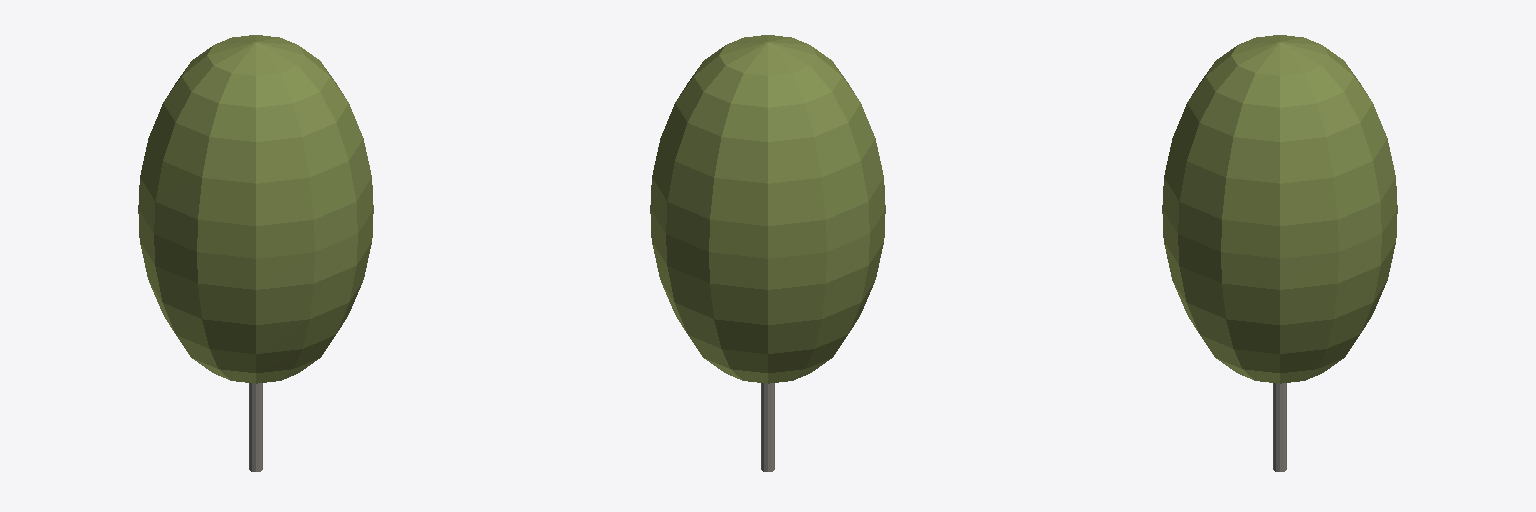
The model's file is Paper_Birch_Analytical_0.obj.
The picture shows the model from 3 angles: view 1: azimuth 30°, elevation 25°; view 2: azimuth 150°, elevation 25°; view 3: azimuth 270°, elevation 25°; orthographic projection.
Visible parts, largest first — view 1: AnalyticalCrown, AnalyticalTrunk; view 2: AnalyticalCrown, AnalyticalTrunk; view 3: AnalyticalCrown, AnalyticalTrunk.
Boxes of the visible parts, x1=… form: AnalyticalCrown: x1=138, y1=35, x2=373, y2=383; AnalyticalTrunk: x1=249, y1=383, x2=262, y2=471; AnalyticalCrown: x1=650, y1=35, x2=885, y2=383; AnalyticalTrunk: x1=761, y1=383, x2=774, y2=471; AnalyticalCrown: x1=1162, y1=35, x2=1397, y2=383; AnalyticalTrunk: x1=1273, y1=383, x2=1286, y2=471.
Bounding box in the file's own units: 7.5 × 15 × 7.5.